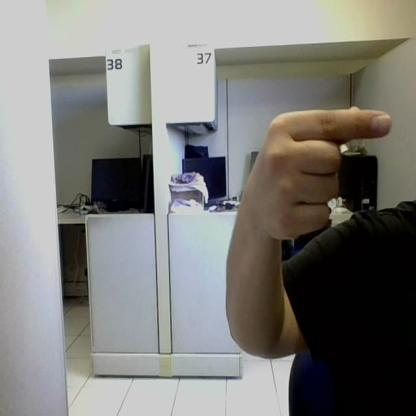G: (263, 108, 390, 241)
